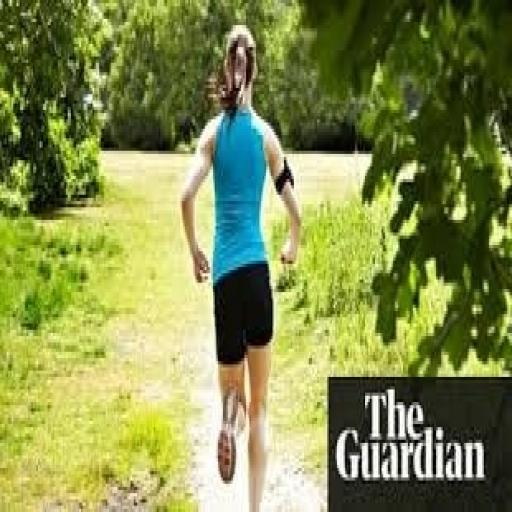running: (178, 22, 304, 509)
